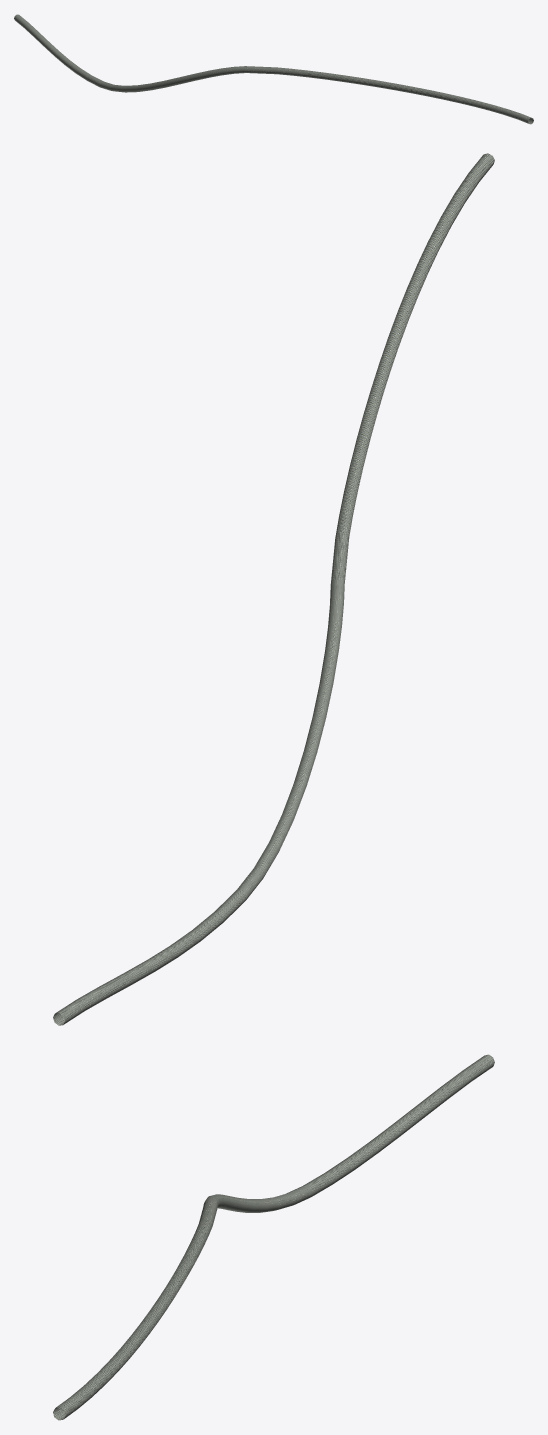
File: microtubule2.fbx
3 renders of one model, top to bottom at view 1: azimuth 30°, elevation 25°; view 2: azimuth 150°, elevation 25°; view 3: azimuth 330°, elevation 25°, orthographic. The views are drawn at different scales.
Visible parts, largest first — view 1: microtubule2; view 2: microtubule2; view 3: microtubule2.
Boxes of the visible parts, x1,y1,x2,y2 form: microtubule2: (14,14,533,124); microtubule2: (53,153,494,1025); microtubule2: (53,1054,494,1420).
Bounding box in the file's own units: 3875 × 3201 × 15338.
1 material, 1 textured.
